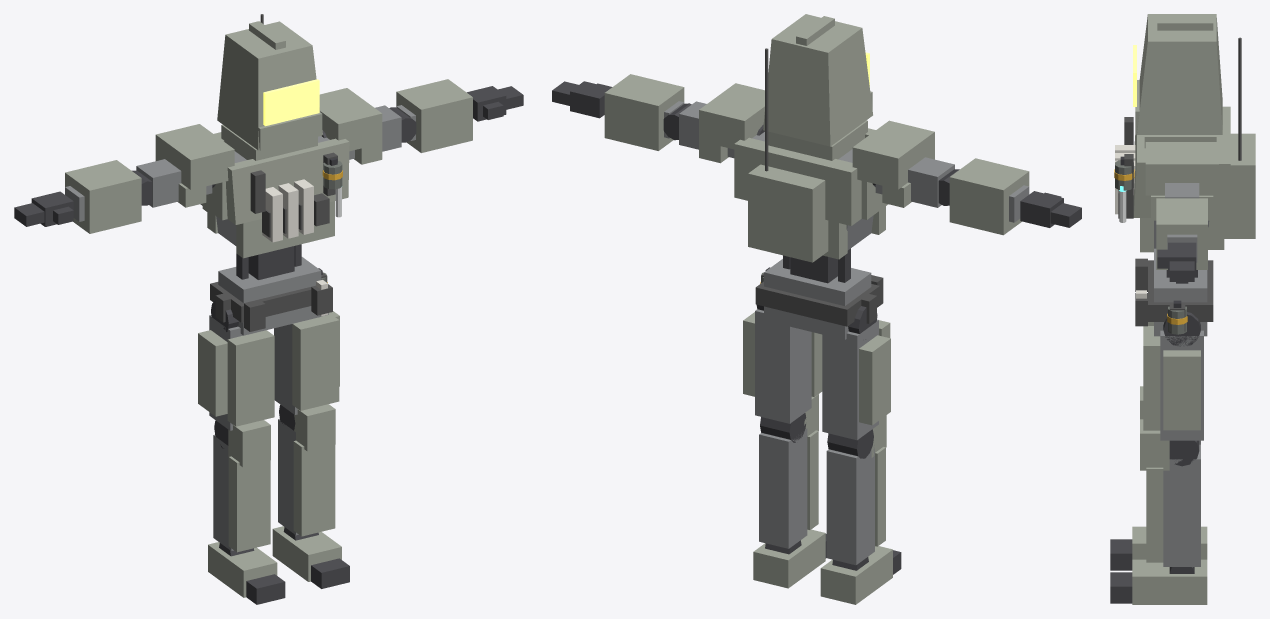
File: char_F1_squad_leader.glb
The picture shows the model from 3 angles, left to right: view 1: azimuth 30°, elevation 25°; view 2: azimuth 150°, elevation 25°; view 3: azimuth 270°, elevation 25°; orthographic projection. The views are drawn at different scales.
Visible parts, largest first — view 1: Head_mesh, UpperChest_mesh, RightUpperLeg_mesh, LeftLowerLeg_mesh, RightLowerLeg_mesh, Hips_mesh, LeftUpperLeg_mesh, RightUpperArm_mesh, RightLowerArm_mesh, LeftLowerArm_mesh, LeftUpperArm_mesh, Chest_mesh (+10 smaller); view 2: UpperChest_mesh, Head_mesh, LeftLowerLeg_mesh, RightLowerLeg_mesh, RightUpperLeg_mesh, LeftUpperLeg_mesh, Hips_mesh, RightUpperArm_mesh, RightLowerArm_mesh, LeftLowerArm_mesh, LeftUpperArm_mesh, LeftFoot_mesh (+5 smaller); view 3: Head_mesh, LeftLowerLeg_mesh, UpperChest_mesh, LeftUpperLeg_mesh, LeftUpperArm_mesh, Hips_mesh, LeftFoot_mesh, LeftLowerArm_mesh, LeftHand_mesh, Chest_mesh, RightFoot_mesh, LeftToes_mesh (+4 smaller).
Boxes of the visible parts, x1,y1,x2,y2 form: Head_mesh: [217, 21, 322, 150]; UpperChest_mesh: [200, 14, 349, 237]; RightUpperLeg_mesh: [198, 300, 274, 430]; LeftLowerLeg_mesh: [278, 404, 335, 536]; RightLowerLeg_mesh: [213, 420, 270, 552]; Hips_mesh: [210, 257, 332, 335]; LeftUpperLeg_mesh: [274, 311, 339, 414]; RightUpperArm_mesh: [136, 124, 234, 207]; RightLowerArm_mesh: [65, 160, 152, 233]; LeftLowerArm_mesh: [389, 79, 472, 152]; LeftUpperArm_mesh: [319, 88, 401, 164]; Chest_mesh: [207, 201, 334, 258]; UpperChest_mesh: [734, 48, 887, 262]; Head_mesh: [763, 14, 872, 146]; LeftLowerLeg_mesh: [759, 394, 818, 548]; RightLowerLeg_mesh: [826, 415, 886, 565]; RightUpperLeg_mesh: [822, 306, 890, 439]; LeftUpperLeg_mesh: [743, 305, 822, 423]; Hips_mesh: [755, 259, 883, 339]; RightUpperArm_mesh: [852, 120, 954, 207]; RightLowerArm_mesh: [938, 158, 1029, 235]; LeftLowerArm_mesh: [604, 74, 691, 150]; LeftUpperArm_mesh: [679, 83, 764, 163]; LeftFoot_mesh: [753, 529, 825, 588]; Head_mesh: [1133, 14, 1222, 134]; LeftLowerLeg_mesh: [1140, 419, 1200, 566]; UpperChest_mesh: [1118, 37, 1255, 238]; LeftUpperLeg_mesh: [1143, 312, 1203, 440]; LeftUpperArm_mesh: [1145, 142, 1218, 216]; Hips_mesh: [1135, 248, 1213, 336]; LeftFoot_mesh: [1132, 559, 1207, 604]; LeftLowerArm_mesh: [1156, 198, 1207, 269]; LeftHand_mesh: [1157, 242, 1196, 281]; Chest_mesh: [1140, 218, 1224, 252]; RightFoot_mesh: [1132, 526, 1207, 559]; LeftToes_mesh: [1110, 572, 1132, 603].
Size of the model in its own units: 1.92 by 1.97 by 0.465.
